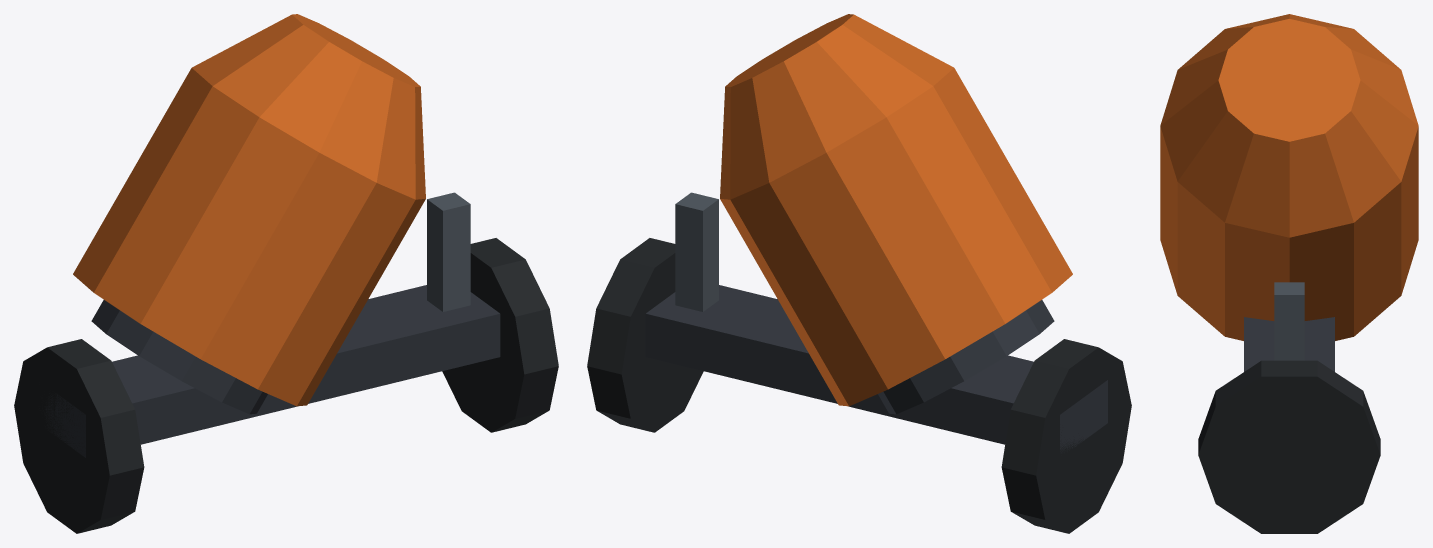
The model's file is v2-cement-mixer.glb.
3 renders of one model, left to right at view 1: azimuth 30°, elevation 25°; view 2: azimuth 150°, elevation 25°; view 3: azimuth 270°, elevation 25°, orthographic. The views are drawn at different scales.
Visible parts, largest first — view 1: v2-cement-mixer; view 2: v2-cement-mixer; view 3: v2-cement-mixer.
Part boxes in pixels (x1,y1,x2,y2): v2-cement-mixer: (14, 14, 558, 533); v2-cement-mixer: (587, 14, 1131, 533); v2-cement-mixer: (1160, 14, 1418, 533).
Bounding box in the file's own units: 0.65 × 0.6079 × 0.34.
